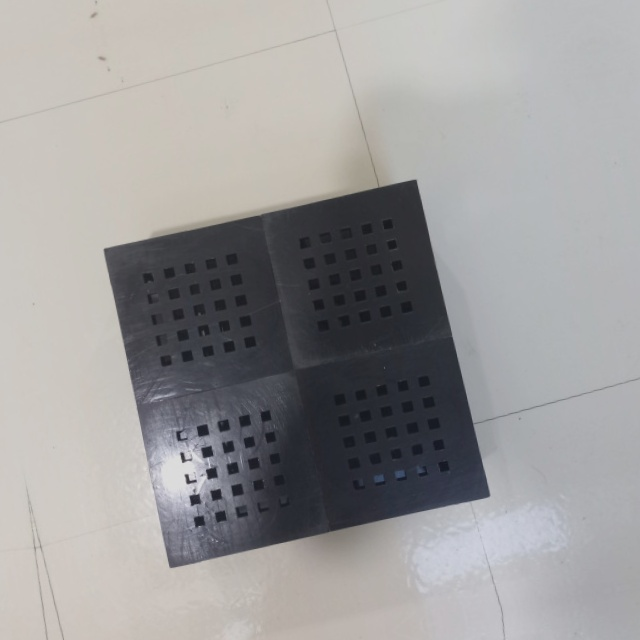pallet: (95, 173, 503, 580)
